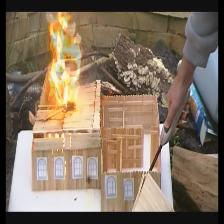fire: (45, 11, 80, 115)
